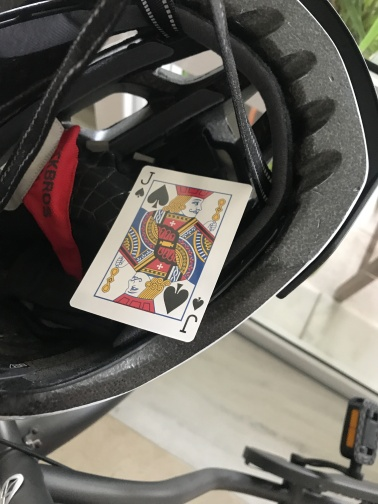jack: (68, 163, 254, 344)
